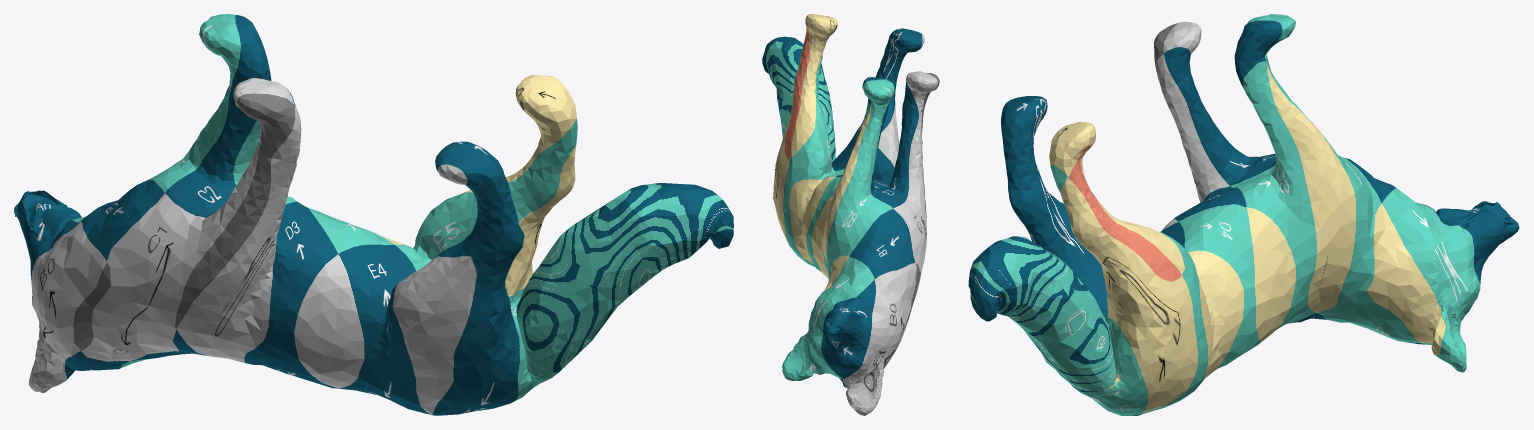
The model's file is lion_05-fox_01.obj.
3 renders of one model, left to right at view 1: azimuth 30°, elevation 25°; view 2: azimuth 150°, elevation 25°; view 3: azimuth 270°, elevation 25°, orthographic. The views are drawn at different scales.
Parts seen in each view (by area): view 1: lion_05-fox_01_export; view 2: lion_05-fox_01_export; view 3: lion_05-fox_01_export.
Part boxes in pixels (<box>): lion_05-fox_01_export: <box>14,14,733,415</box>; lion_05-fox_01_export: <box>762,14,939,415</box>; lion_05-fox_01_export: <box>968,14,1519,415</box>.
Size of the model in its own units: 0.6995 by 0.6346 by 0.8544.
